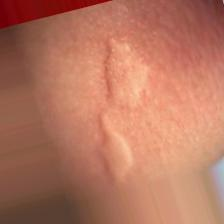Mosquito: (82, 107, 143, 186), (99, 37, 150, 109)
